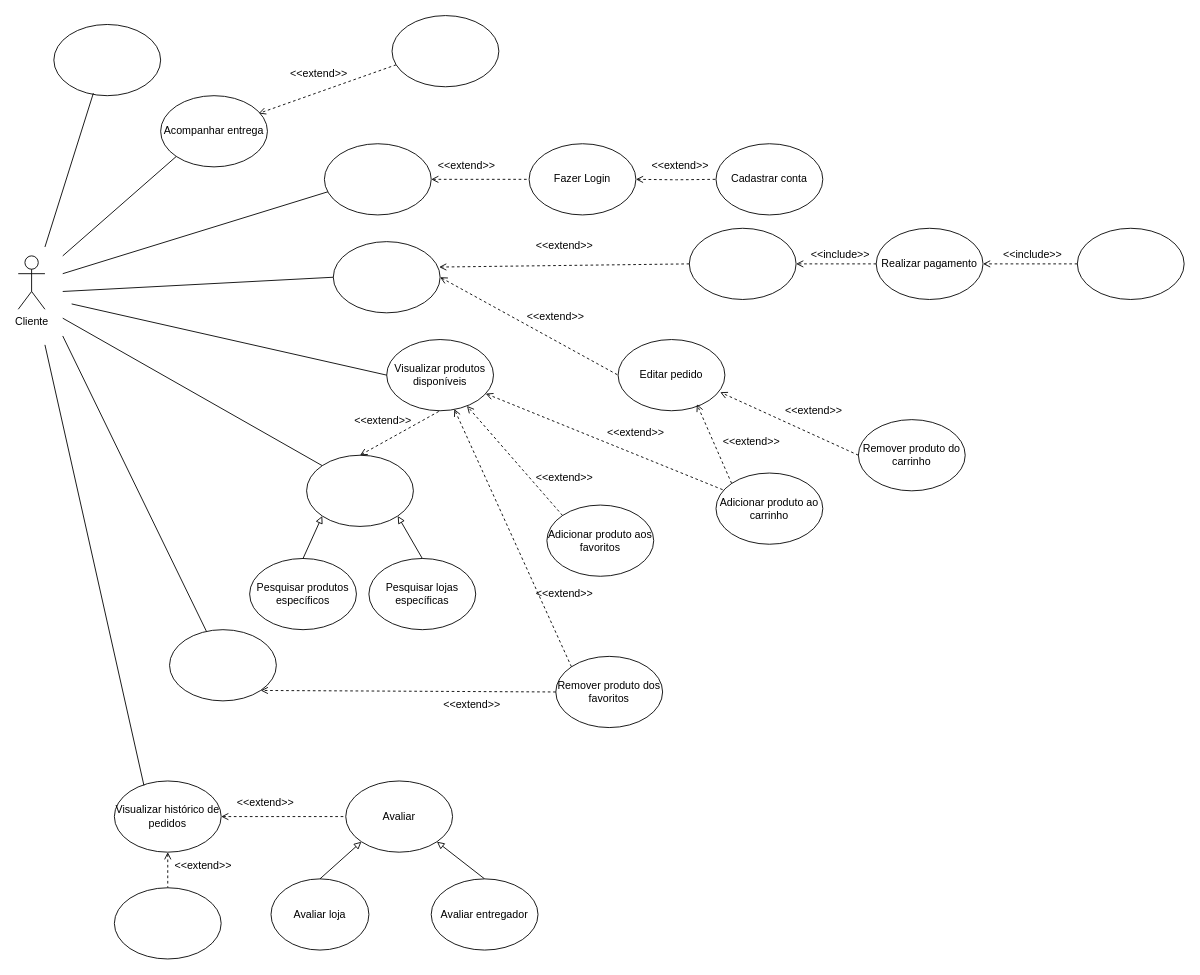
Some shapes in this 1200 by 975 pixel diagram are drawn without their labels. The shapes that lost their labels are listed below. From the top down, each one's centre as x and y in pixels, then its label:
point (107, 60): Cadastrar método de pagamento
point (445, 51): Visualizar status do pedido
point (377, 179): Acessar aplicativo
point (386, 277): Visualizar carrinho
point (742, 263): Confirmar pedido
point (1130, 263): Selecionar método de pagamento
point (359, 490): Buscar
point (222, 665): Visualizar favoritos
point (167, 923): Repetir pedido
